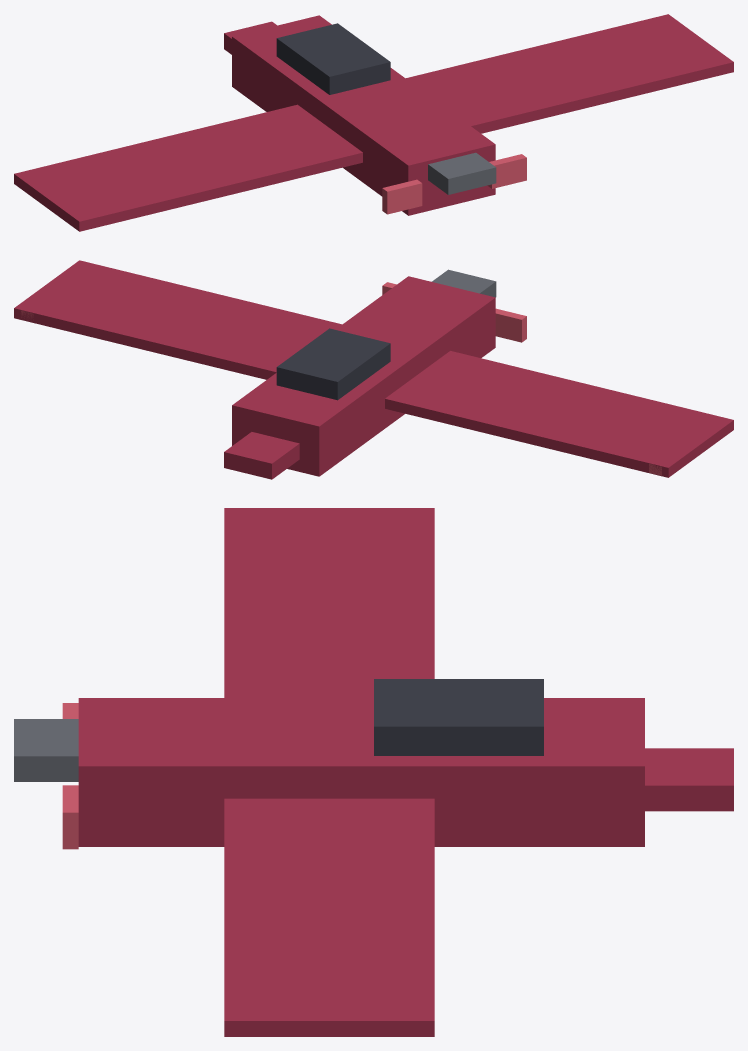
File: CRA1_specter.glb
The picture shows the model from 3 angles, top to bottom: view 1: azimuth 30°, elevation 25°; view 2: azimuth 150°, elevation 25°; view 3: azimuth 270°, elevation 25°; orthographic projection. The views are drawn at different scales.
Parts seen in each view (by area): view 1: wing_-4, wing_4, fuselage, cockpit, tail, thruster_-4, thruster_4, nose; view 2: wing_-4, fuselage, wing_4, cockpit, nose, tail, thruster_-4; view 3: fuselage, wing_4, wing_-4, cockpit, nose, tail, thruster_4.
Part boxes in pixels (box(x1,y1,x2,y2)): wing_-4: box(14, 104, 362, 231); wing_4: box(406, 14, 733, 133); fuselage: box(232, 15, 495, 215); cockpit: box(276, 23, 390, 94); tail: box(428, 152, 496, 194); thruster_-4: box(382, 179, 422, 214); thruster_4: box(487, 154, 526, 188); nose: box(224, 21, 276, 54); wing_-4: box(385, 351, 733, 477); fuselage: box(232, 276, 495, 476); wing_4: box(14, 260, 341, 379); cockpit: box(276, 328, 390, 400); nose: box(224, 432, 299, 479); tail: box(432, 269, 496, 297); thruster_-4: box(495, 308, 526, 342); fuselage: box(78, 698, 644, 846); wing_4: box(224, 798, 434, 1036); wing_-4: box(224, 508, 434, 697); cockpit: box(374, 679, 543, 755); nose: box(645, 748, 733, 811); tail: box(14, 719, 78, 781); thruster_4: box(62, 785, 78, 849).
Bounding box in the file's own units: 15 × 1.5 × 8.9.
